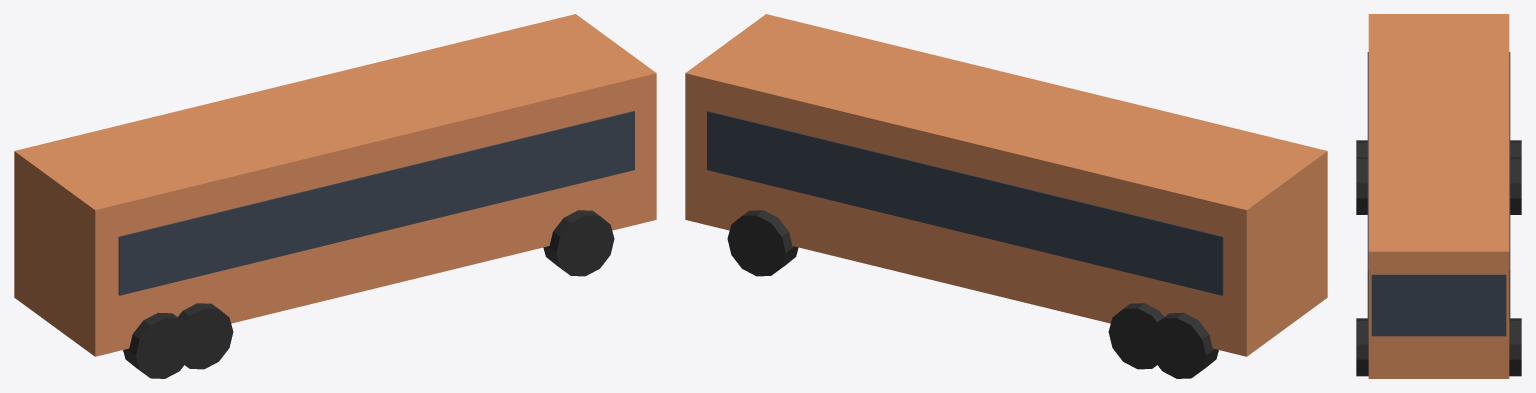
File: SM_TrafficBus.glb
3 views of the same model, side by side, from view 1: azimuth 30°, elevation 25°; view 2: azimuth 150°, elevation 25°; view 3: azimuth 270°, elevation 25° (orthographic). The views are drawn at different scales.
Parts seen in each view (by area): view 1: SM_TrafficBus; view 2: SM_TrafficBus; view 3: SM_TrafficBus.
Boxes of the visible parts, <box> form: SM_TrafficBus: <box>14,14,656,378</box>; SM_TrafficBus: <box>685,14,1327,378</box>; SM_TrafficBus: <box>1356,14,1521,378</box>.
Bounding box in the file's own units: 10.04 × 3.05 × 2.94.
